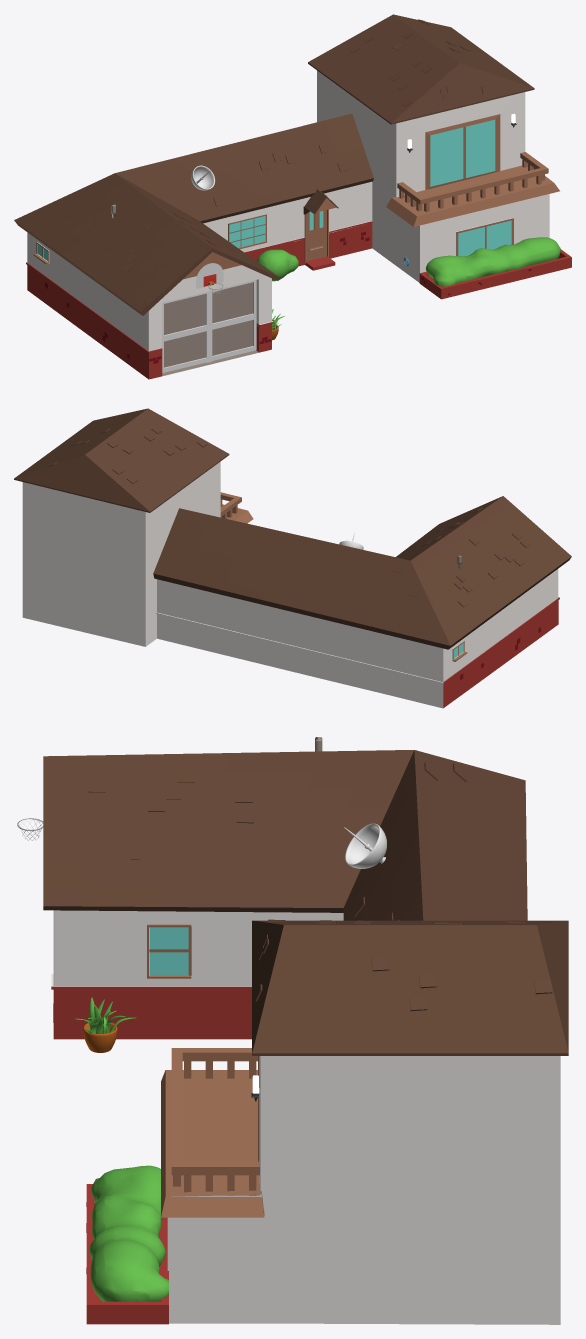
3 renders of one model, top to bottom at view 1: azimuth 30°, elevation 25°; view 2: azimuth 150°, elevation 25°; view 3: azimuth 270°, elevation 25°, orthographic. The views are drawn at different scales.
Parts seen in each view (by area): view 1: House, Roof-1, Roof-2, bushes, garage.007, bar, door, Front-Window _Material.015_0, bar.002, Antenna; view 2: House, Roof-1, Roof-2; view 3: House, Roof-1, Roof-2, garage.007, bushes, bar, garage.012, Antenna, Plant, bar.003.
Boxes of the visible parts, box(x1,y1,x2,y2) form: House: box(26, 70, 571, 379); Roof-1: box(14, 113, 373, 315); Roof-2: box(308, 14, 534, 124); bushes: box(257, 237, 560, 286); garage.007: box(386, 163, 559, 226); bar: box(397, 152, 548, 204); door: box(304, 209, 328, 263); Front-Window _Material.015_0: box(229, 216, 265, 247); bar.002: box(424, 175, 541, 211); Antenna: box(191, 165, 215, 190); House: box(22, 461, 559, 708); Roof-1: box(153, 496, 571, 649); Roof-2: box(14, 408, 229, 512); House: box(51, 910, 560, 1324); Roof-1: box(43, 750, 527, 920); Roof-2: box(252, 920, 568, 1055); garage.007: box(161, 1070, 264, 1217); bushes: box(89, 1165, 168, 1301); bar: box(171, 1048, 259, 1175); garage.012: box(147, 924, 191, 978); Antenna: box(344, 823, 386, 868); Plant: box(75, 997, 136, 1052); bar.003: box(184, 1061, 256, 1195).
Bounding box in the file's own units: 20.19 × 7.84 × 11.26.
